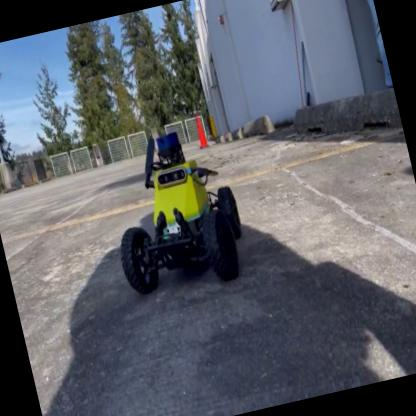cone: (192, 115, 210, 149)
mushr_car: (94, 118, 258, 309)
